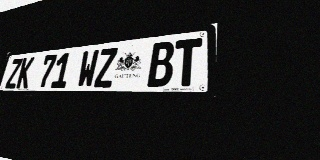1: (51, 53, 72, 88)
7: (37, 54, 57, 88)
B: (147, 41, 175, 87)
K: (16, 57, 35, 89)
T: (172, 38, 202, 87)
W: (76, 49, 99, 88)
Z: (94, 47, 118, 88), (5, 58, 23, 89)
